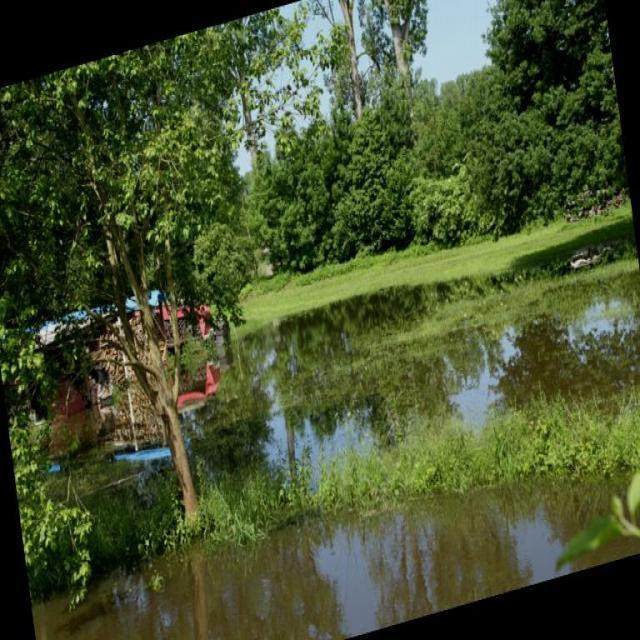flood: (5, 220, 639, 639)
